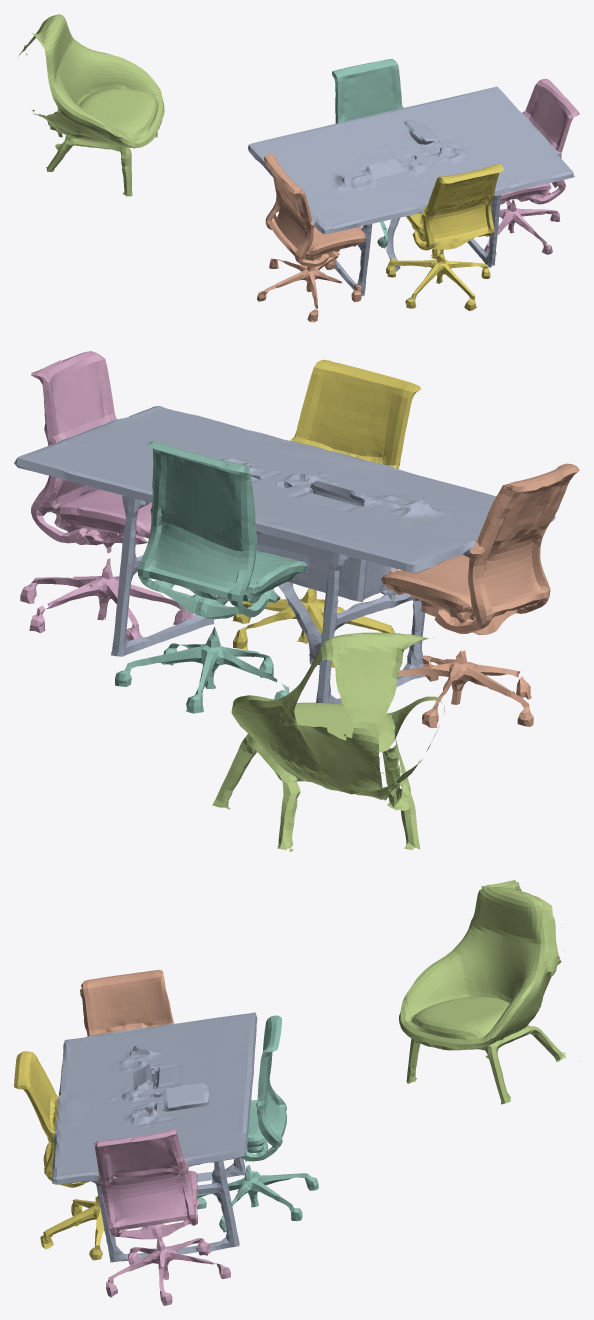
3 views of the same model, one above another, from view 1: azimuth 30°, elevation 25°; view 2: azimuth 150°, elevation 25°; view 3: azimuth 270°, elevation 25° (orthographic). The views are drawn at different scales.
Visible parts, largest first — view 1: target_2_0, target_4_0, target_5_0, target_1_0, target_3_0, target_0_0; view 2: target_2_0, target_4_0, target_0_0, target_1_0, target_3_0, target_5_0; view 3: target_2_0, target_4_0, target_3_0, target_0_0, target_1_0, target_5_0.
Boxes of the visible parts, x1,y1,x2,y2 form: target_2_0: (248,86,574,296); target_4_0: (18,14,164,196); target_5_0: (386,163,503,310); target_1_0: (257,153,365,322); target_3_0: (484,78,579,254); target_0_0: (332,59,403,248); target_2_0: (14,406,555,703); target_4_0: (212,632,444,851); target_0_0: (115,441,308,713); target_1_0: (381,463,579,727); target_3_0: (20,351,194,641); target_5_0: (233,359,421,667); target_2_0: (52,1012,257,1262); target_4_0: (399,880,579,1104); target_3_0: (94,1129,230,1305); target_0_0: (197,1015,318,1232); target_1_0: (80,970,188,1171); target_5_0: (14,1051,104,1260).
Size of the model in its own units: 0.9608 by 0.4654 by 1.04.
